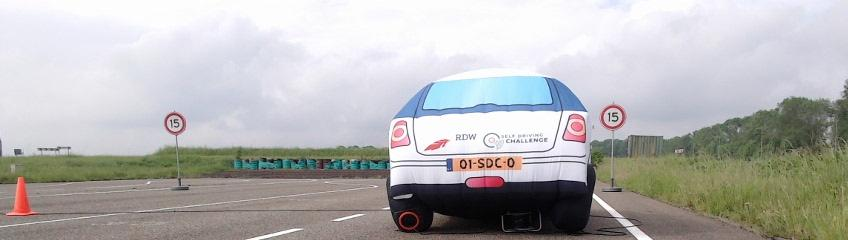Car: (388, 67, 596, 237)
Speed-limit-15km-h-: (599, 104, 627, 131), (164, 112, 186, 136)
